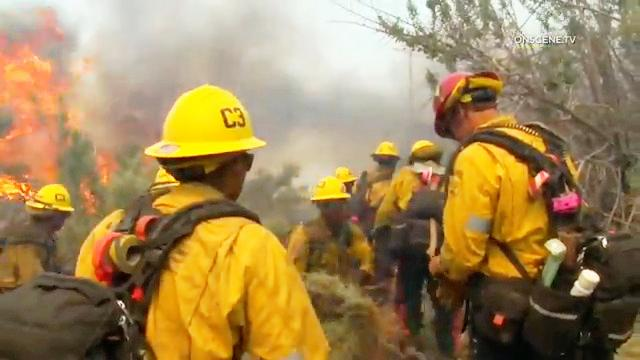fire: (0, 9, 79, 158)
smoke: (100, 5, 311, 83)
